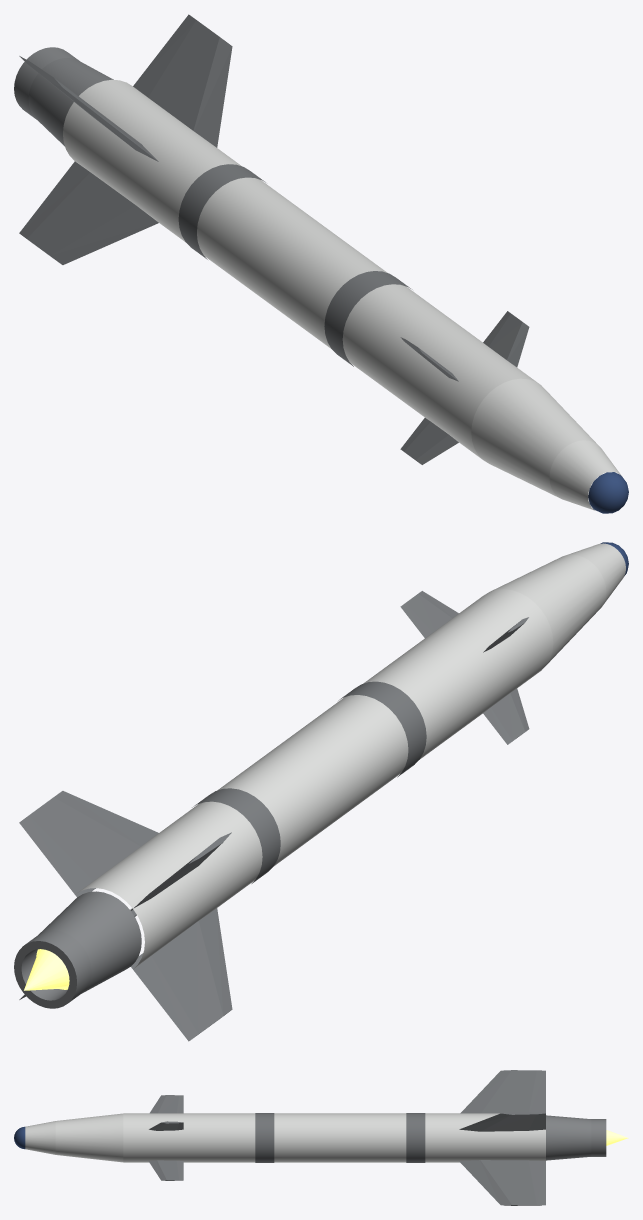
The model's file is missile.glb.
The picture shows the model from 3 angles, top to bottom: view 1: azimuth 30°, elevation 25°; view 2: azimuth 150°, elevation 25°; view 3: azimuth 270°, elevation 25°; orthographic projection. The views are drawn at different scales.
Visible parts, largest first — view 1: body; view 2: body; view 3: body.
Boxes of the visible parts, bbox=[...] form: body: bbox=[14, 14, 628, 513]; body: bbox=[14, 542, 628, 1041]; body: bbox=[14, 1070, 628, 1205].
Size of the model in its own units: 0.2744 by 0.2744 by 1.63.
